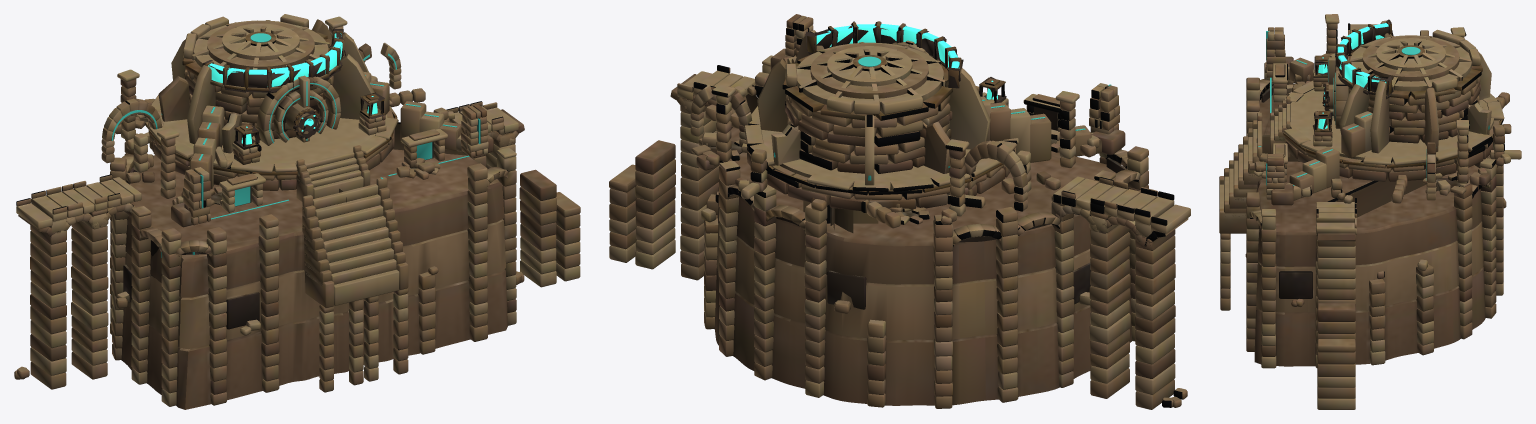
Rendered from the-citadel-v2.glb.
3 views of the same model, side by side, from view 1: azimuth 30°, elevation 25°; view 2: azimuth 150°, elevation 25°; view 3: azimuth 270°, elevation 25° (orthographic). The views are drawn at different scales.
Visible parts, largest first — view 1: citadel_hull, citadel_heart, citadel_heart_wreck; view 2: citadel_hull, citadel_heart, citadel_heart_wreck; view 3: citadel_hull, citadel_heart, citadel_heart_wreck, citadel_pod_right.
Part boxes in pixels (x1,y1,x2,y2): citadel_hull: [14, 14, 580, 409]; citadel_heart: [204, 31, 344, 90]; citadel_heart_wreck: [202, 28, 345, 92]; citadel_hull: [609, 14, 1190, 409]; citadel_heart: [807, 21, 961, 87]; citadel_heart_wreck: [805, 21, 963, 88]; citadel_hull: [1219, 14, 1521, 409]; citadel_heart: [1336, 21, 1391, 96]; citadel_heart_wreck: [1335, 19, 1393, 99]; citadel_pod_right: [1315, 111, 1331, 132].
Bounding box in the file's own units: 24.63 × 11.92 × 13.4.
4 materials, 1 textured.
